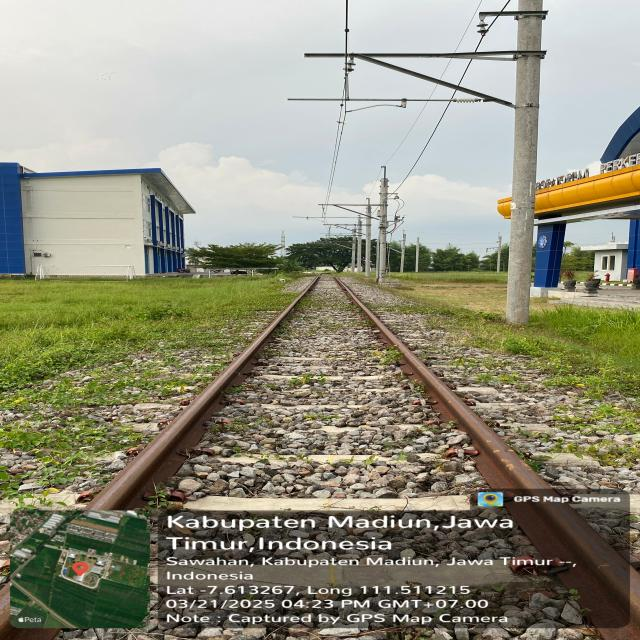rail-detection: (336, 280, 640, 640), (86, 280, 317, 510)
